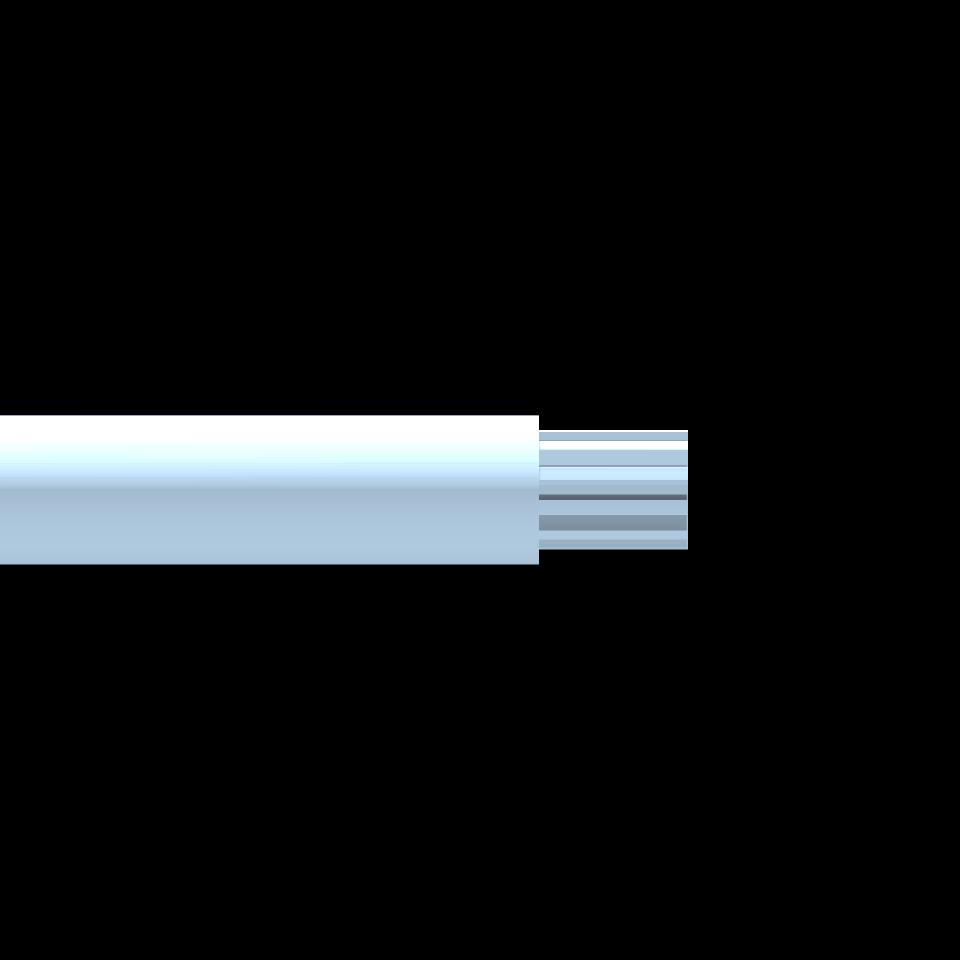Straight: (539, 429, 689, 551)
